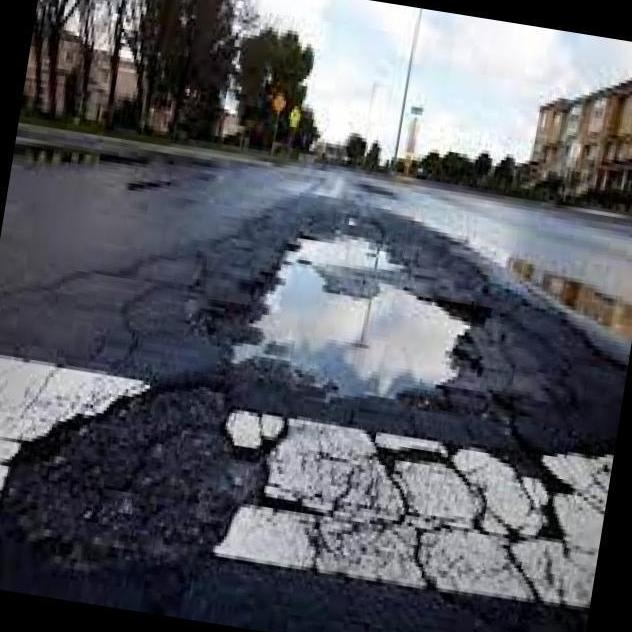pothole: (230, 222, 453, 398)
